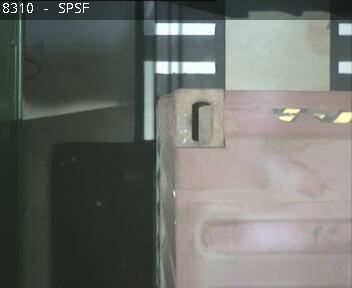groundmarker_1: (143, 1, 216, 141)
